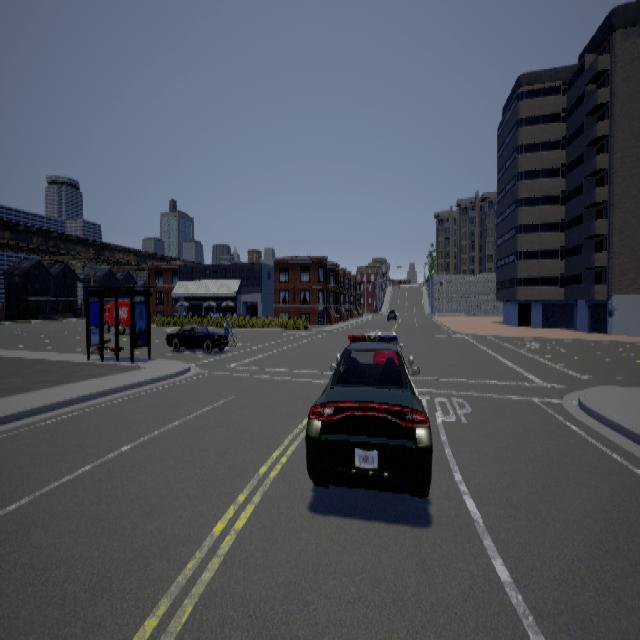bike: (220, 312, 237, 344)
vehicle: (304, 330, 432, 497), (164, 323, 234, 352)
